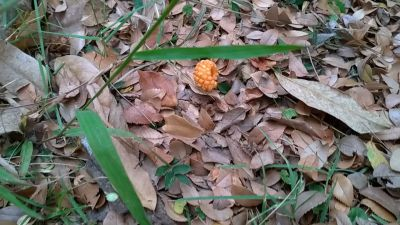eggs: (191, 58, 220, 94)
